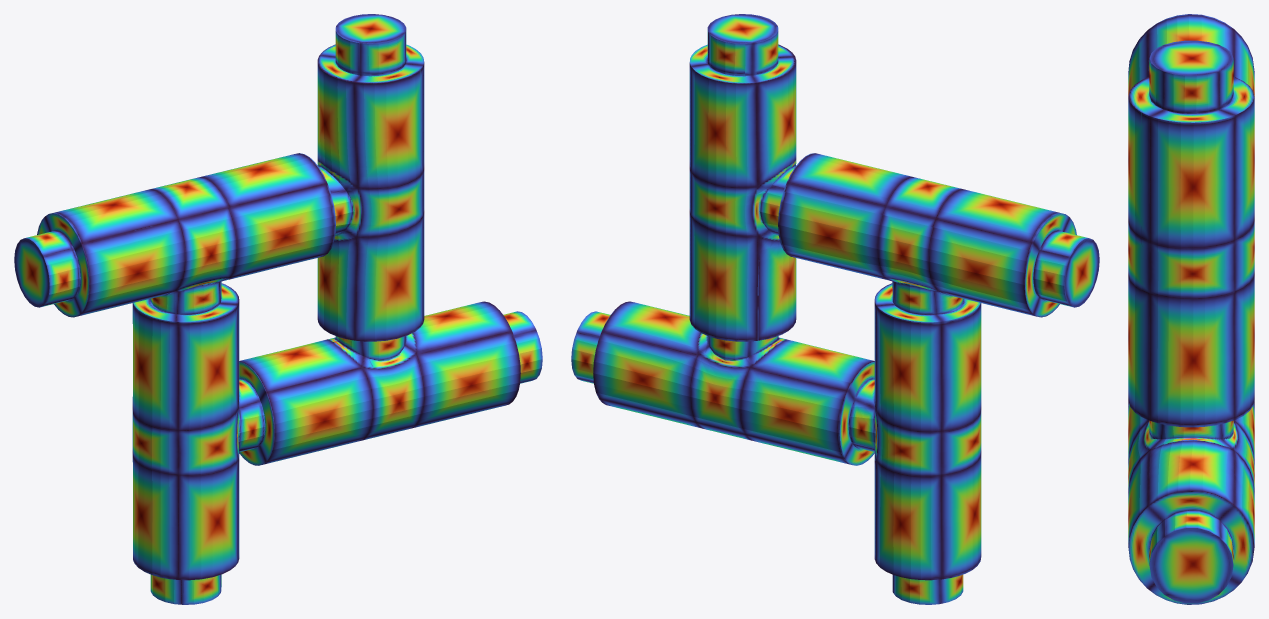
File: gen0.glb
3 views of the same model, side by side, from view 1: azimuth 30°, elevation 25°; view 2: azimuth 150°, elevation 25°; view 3: azimuth 270°, elevation 25° (orthographic). The views are drawn at different scales.
Visible parts, largest first — view 1: Node; view 2: Node; view 3: Node.
Part boxes in pixels (<box>): Node: <box>14,14,542,604</box>; Node: <box>571,14,1099,604</box>; Node: <box>1128,14,1254,604</box>.
Size of the model in its own units: 320 by 320 by 60.
Materials: 1 (1 with a texture image).
